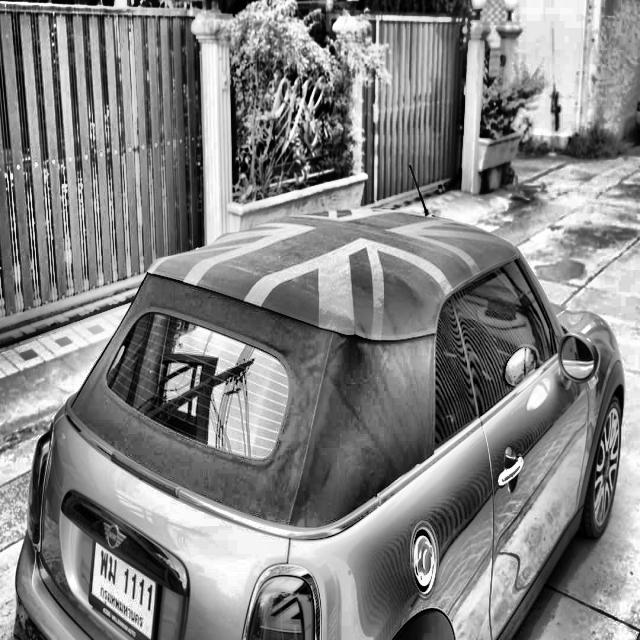license-plate: (84, 527, 168, 640)
